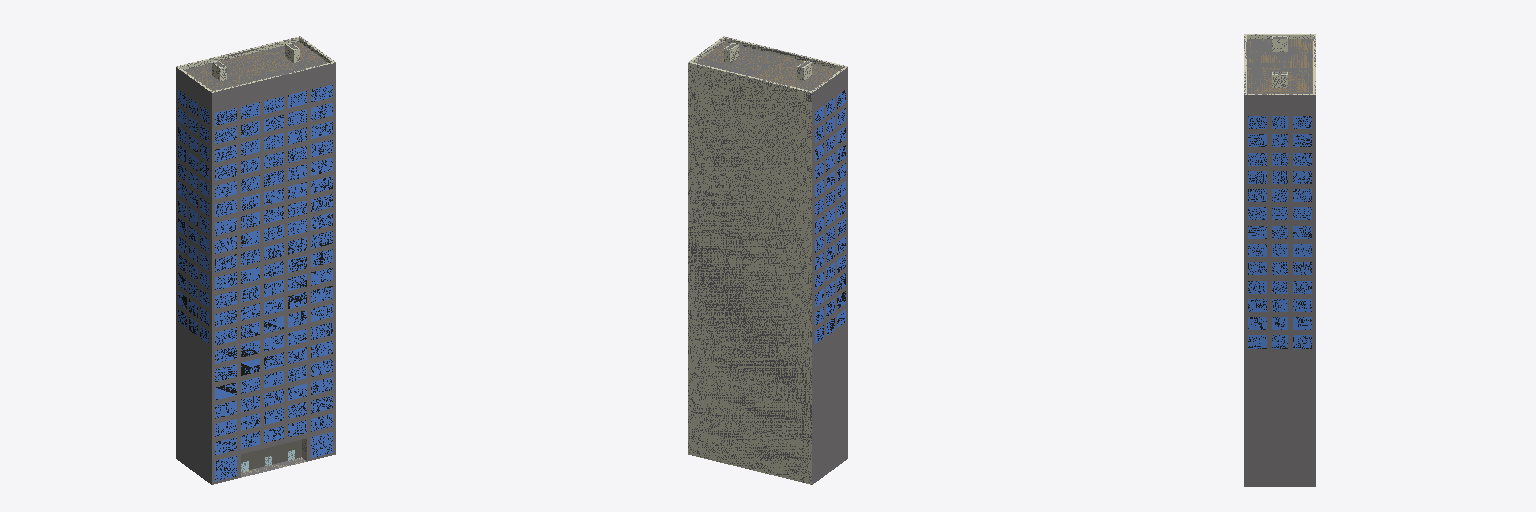
The model's file is edificio1.obj.
The picture shows the model from 3 angles: view 1: azimuth 30°, elevation 25°; view 2: azimuth 150°, elevation 25°; view 3: azimuth 270°, elevation 25°; orthographic projection.
Parts seen in each view (by area): view 1: Mesh182 Glass_skyscraper_300__tall1 Model, Mesh181 Top_1_1 Glass_skyscraper_300__tall1 Model; view 2: Mesh182 Glass_skyscraper_300__tall1 Model, Mesh181 Top_1_1 Glass_skyscraper_300__tall1 Model; view 3: Mesh182 Glass_skyscraper_300__tall1 Model, Mesh181 Top_1_1 Glass_skyscraper_300__tall1 Model.
Boxes of the visible parts, <box> form: Mesh182 Glass_skyscraper_300__tall1 Model: <box>176,36,335,484</box>; Mesh181 Top_1_1 Glass_skyscraper_300__tall1 Model: <box>184,42,327,90</box>; Mesh182 Glass_skyscraper_300__tall1 Model: <box>688,36,847,484</box>; Mesh181 Top_1_1 Glass_skyscraper_300__tall1 Model: <box>696,42,839,90</box>; Mesh182 Glass_skyscraper_300__tall1 Model: <box>1244,34,1315,486</box>; Mesh181 Top_1_1 Glass_skyscraper_300__tall1 Model: <box>1247,39,1312,93</box>.
Bounding box in the file's own units: 30.48 × 93.57 × 15.24.